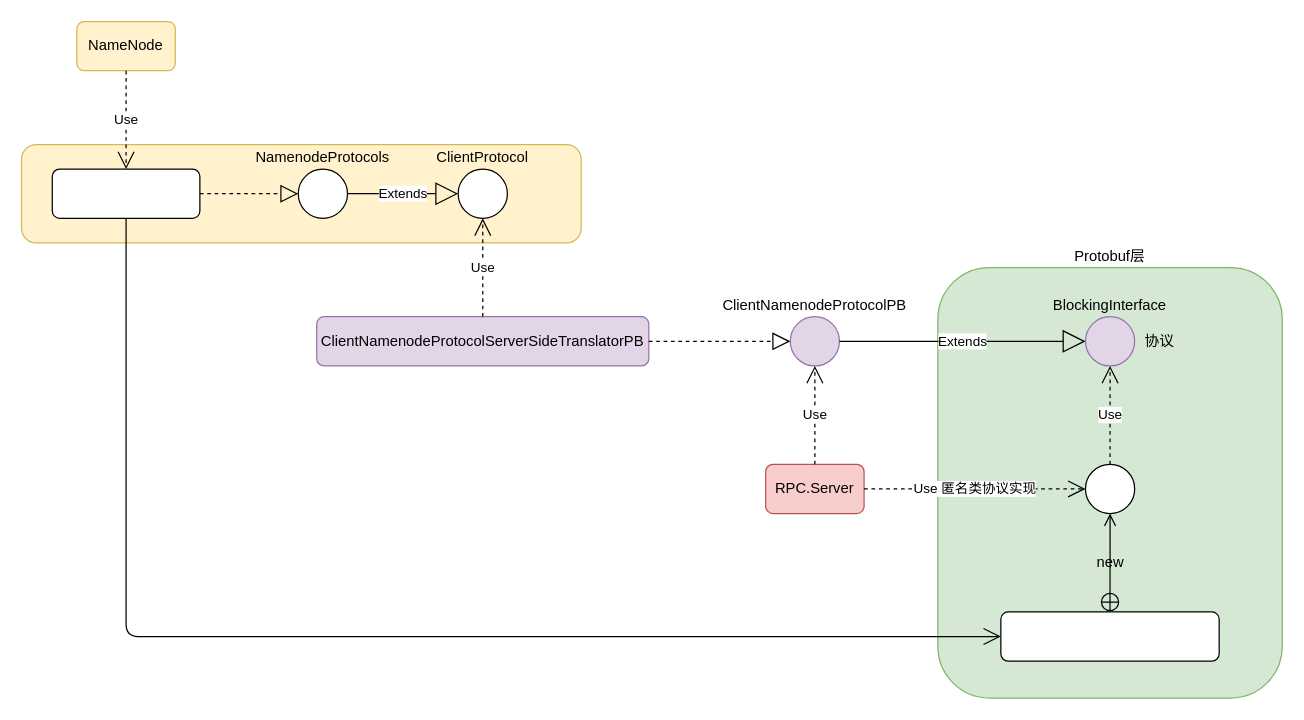
Some shapes in this 1304 by 720 pixel diagram are drawn without their labels. The shapes that lost their labels are listed below. From the top down, each one's box as (x1, y1, x2, y2) in pixels, then its label:
(51, 168, 200, 218): NameNodeRpcServer
(20, 143, 581, 243): 业务层
(1084, 463, 1135, 514): BlockingService
(1000, 611, 1219, 661): ClientNamenodeProtocolProtos. ClientNamenodeProtocol
